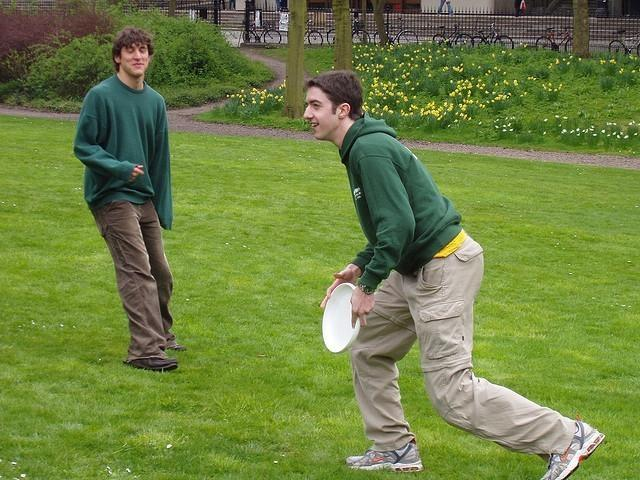bicycle: (604, 28, 640, 62), (326, 19, 371, 46), (374, 19, 418, 46), (472, 22, 514, 48), (432, 23, 474, 46), (536, 26, 572, 52), (244, 21, 282, 44), (304, 19, 322, 46), (400, 30, 418, 40)
